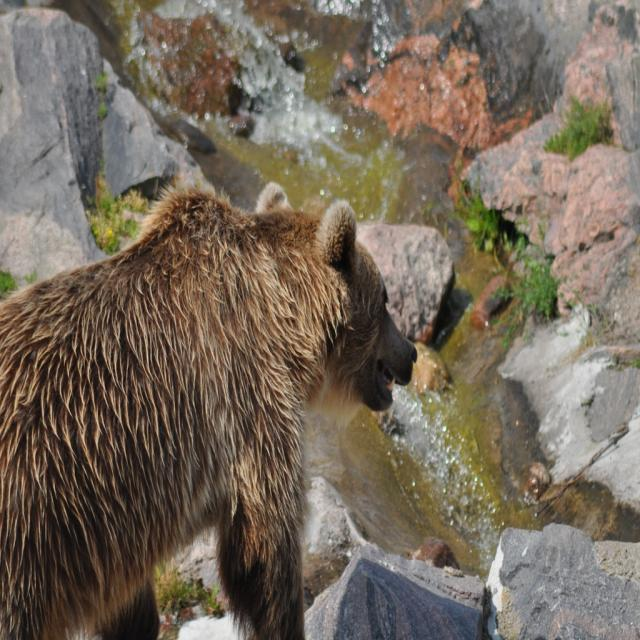Cheetahs: (0, 172, 417, 640)
